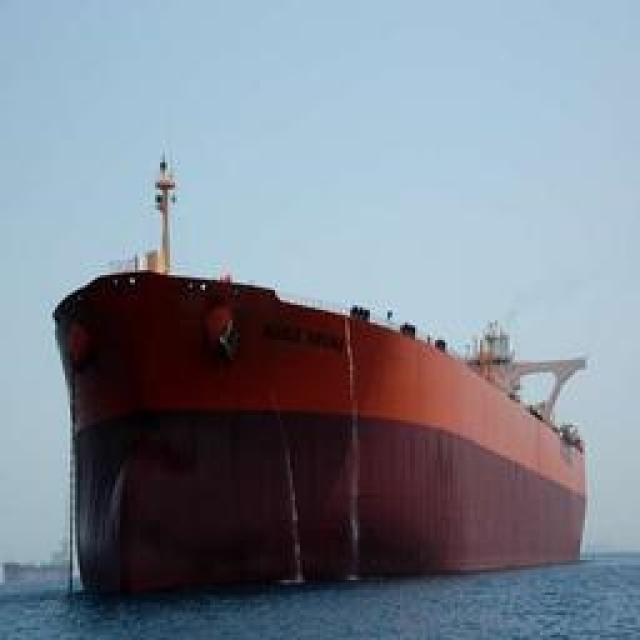CIV_Ship: (46, 268, 604, 596)
